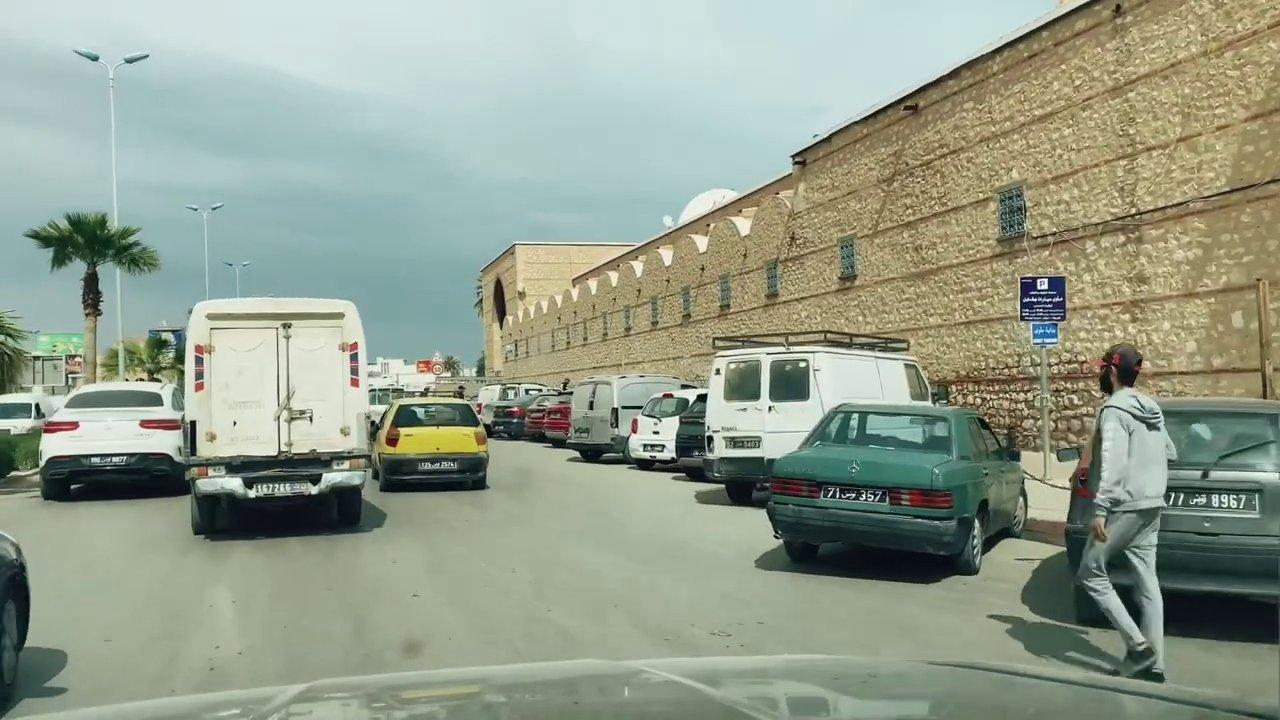pay parking zone: (1017, 275, 1070, 324)
